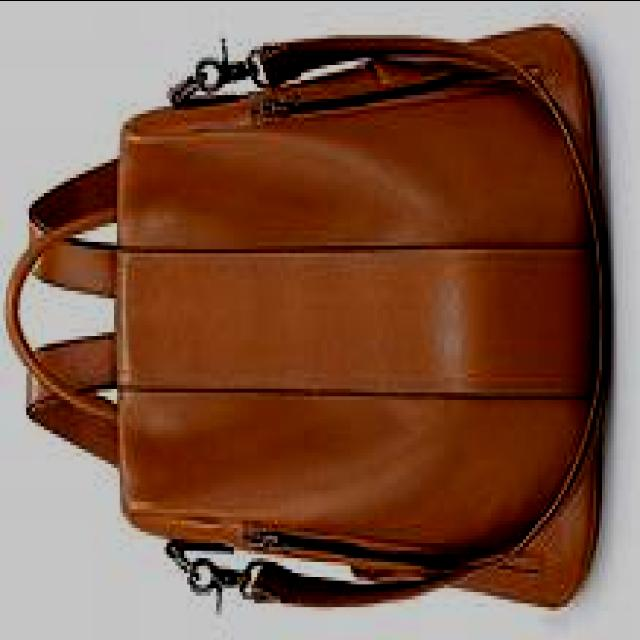backpack: (4, 24, 606, 615)
